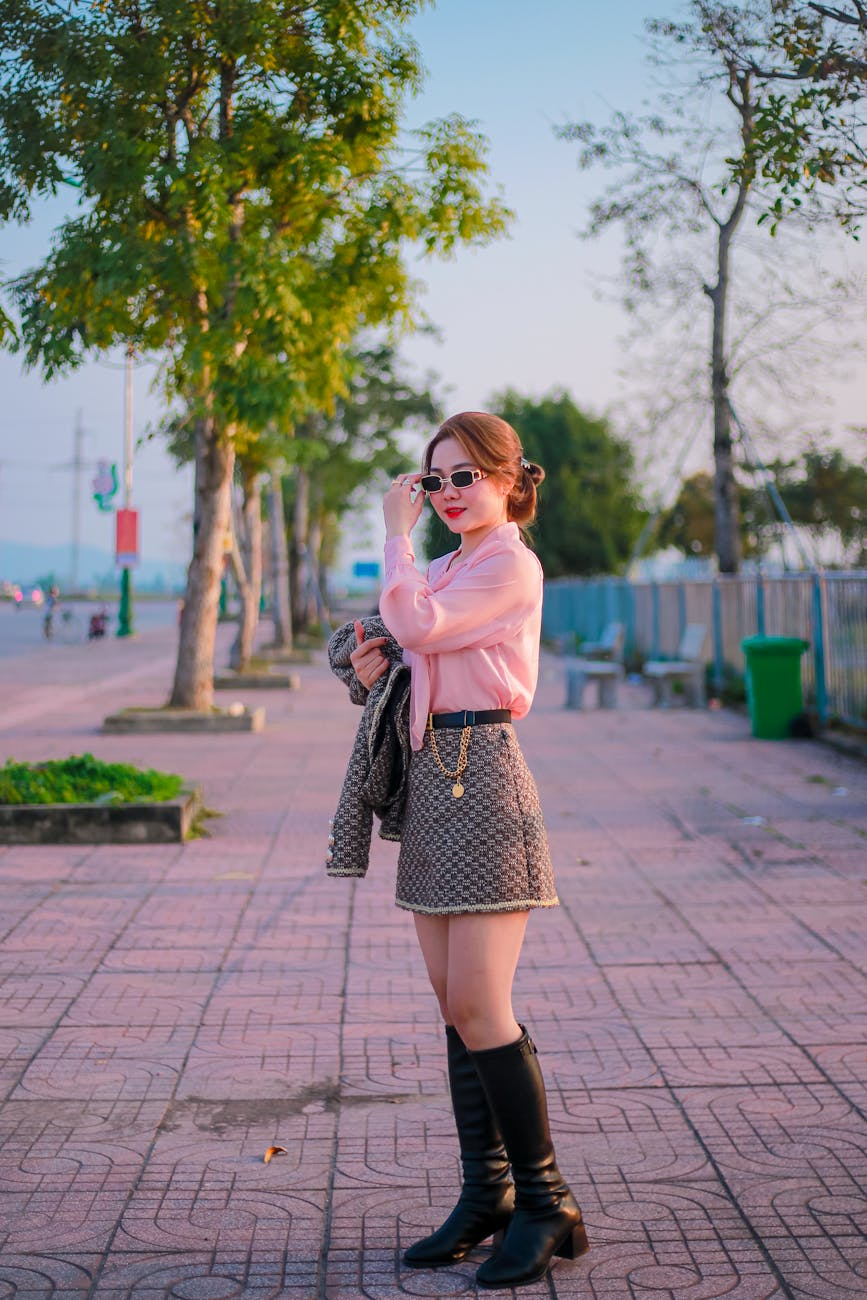short_medium_skirt: (369, 711, 575, 918)
